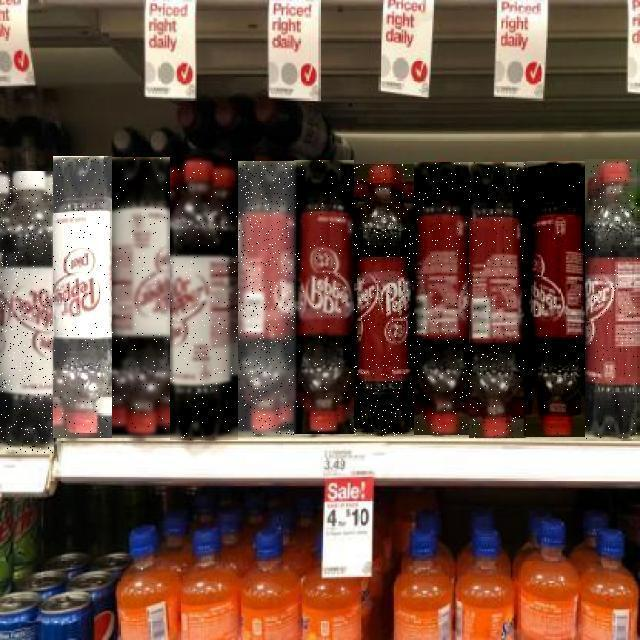Drinks: (170, 158, 238, 440), (53, 157, 112, 439), (527, 161, 587, 437), (295, 160, 355, 434), (112, 158, 170, 440), (355, 164, 415, 436), (470, 162, 528, 438), (238, 162, 296, 436), (415, 162, 471, 435), (0, 172, 54, 454), (586, 159, 640, 439)
